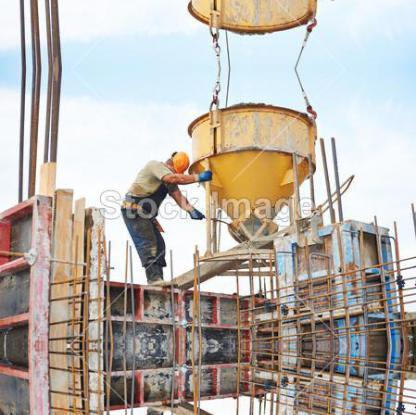helmet: (163, 145, 194, 179)
